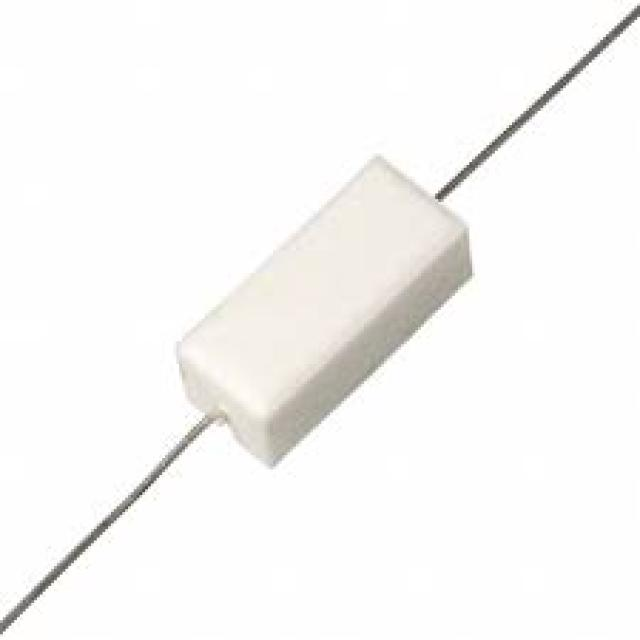Resistor: (169, 153, 473, 470)
